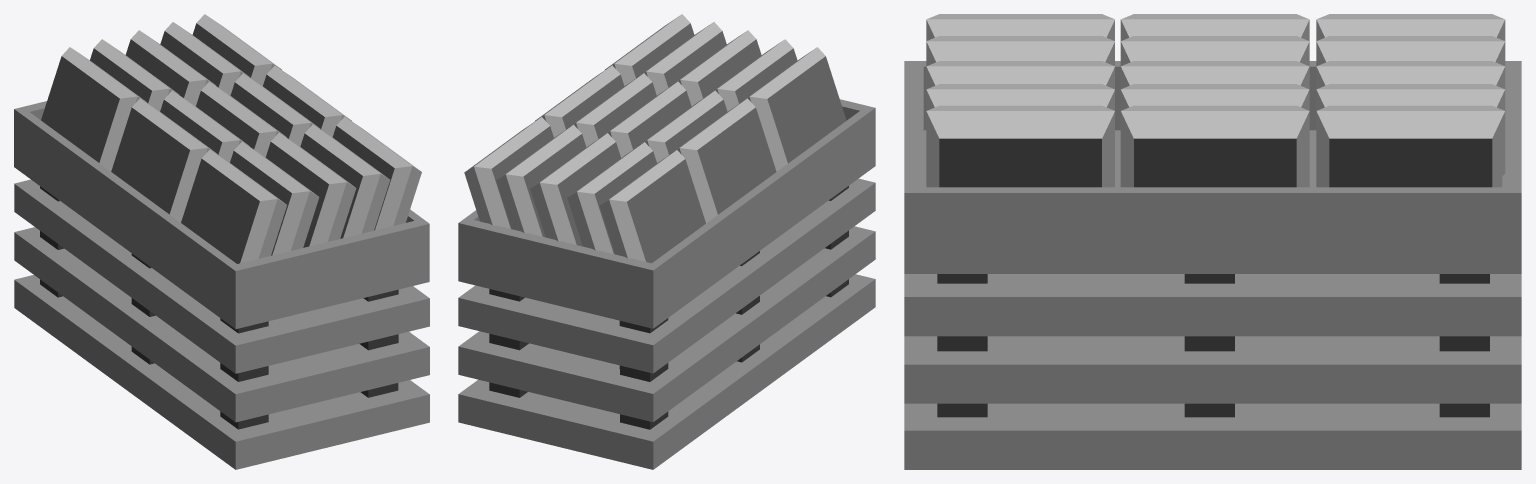
The model's file is food_stack_H.FBX.
3 views of the same model, side by side, from view 1: azimuth 30°, elevation 25°; view 2: azimuth 150°, elevation 25°; view 3: azimuth 270°, elevation 25° (orthographic). The views are drawn at different scales.
Visible parts, largest first — view 1: food_stack_H; view 2: food_stack_H; view 3: food_stack_H.
Part boxes in pixels (left/top/right/bottom): food_stack_H: left=14, top=14, right=429, bottom=469; food_stack_H: left=458, top=14, right=875, bottom=469; food_stack_H: left=904, top=14, right=1521, bottom=469.
Size of the model in its own units: 40.75 by 49.53 by 78.58.
